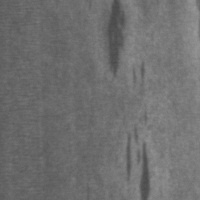inclusion: (123, 56, 155, 199), (103, 1, 128, 79)
